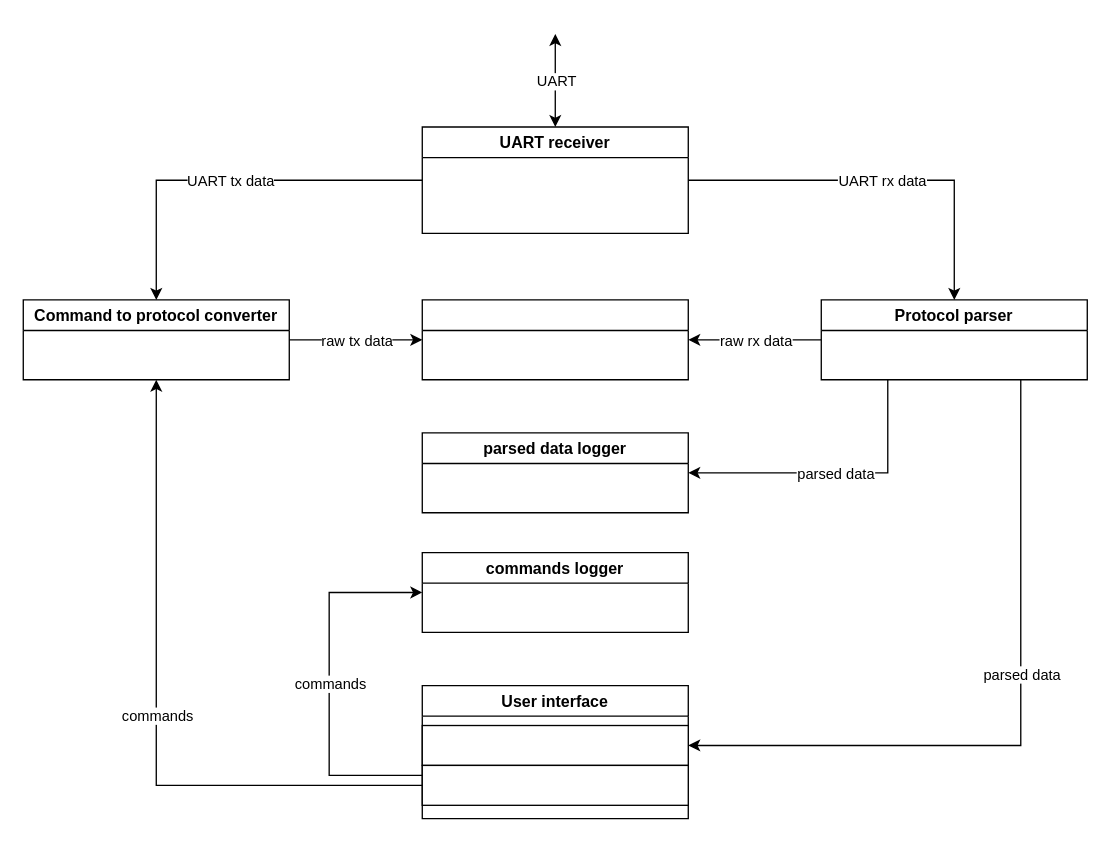
This 1111x842 diagram has some shape labels left out. The box of each missing label's shape, as (x1, y1, x2, y2) in pixels:
Command interface: (421, 764, 688, 805)
Display info: (421, 724, 688, 765)
raw data logger: (421, 299, 688, 380)
